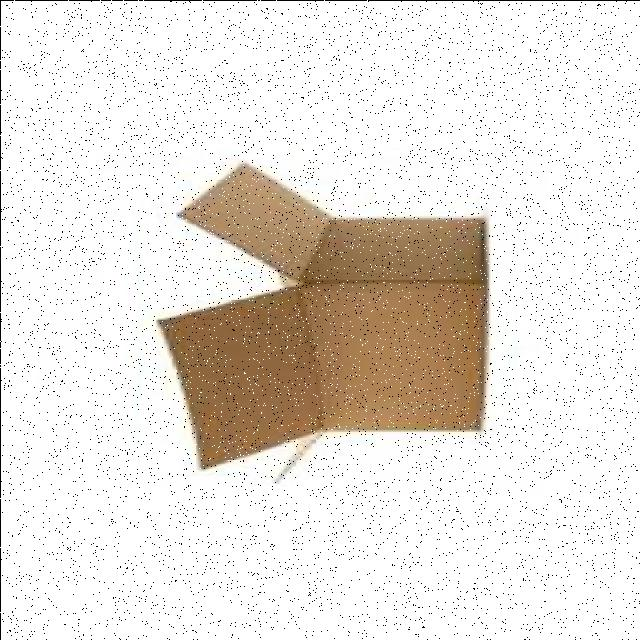defect: (140, 149, 494, 486)
